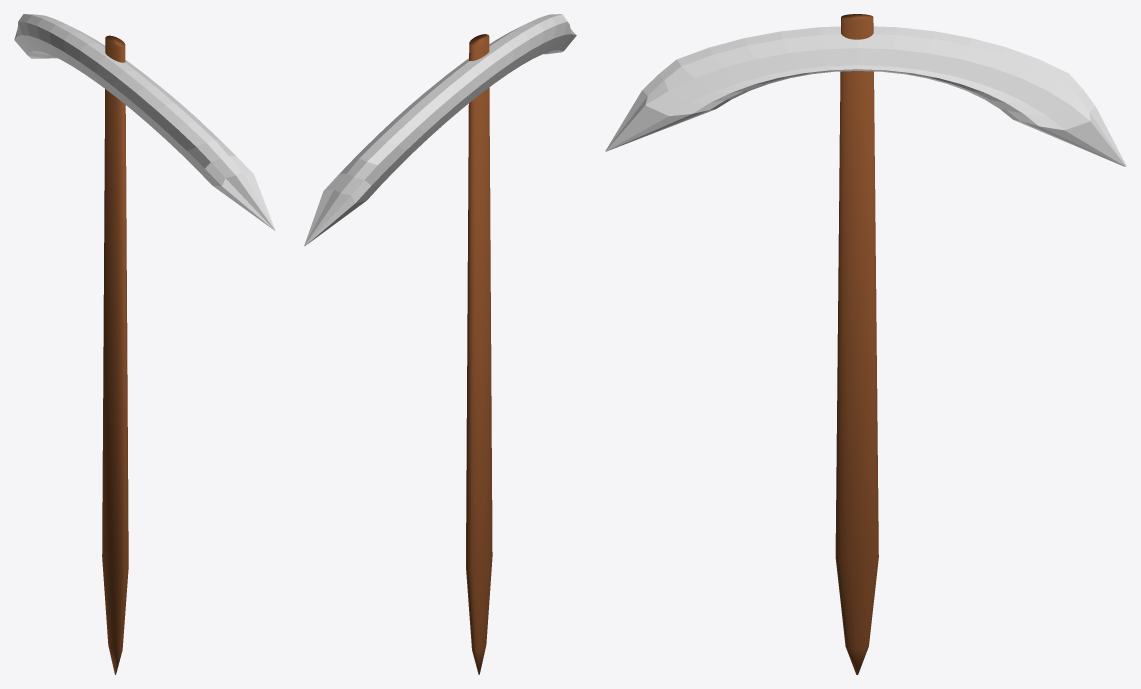
File: Pickaxe.fbx
The picture shows the model from 3 angles, left to right: view 1: azimuth 30°, elevation 25°; view 2: azimuth 150°, elevation 25°; view 3: azimuth 270°, elevation 25°; orthographic projection. The views are drawn at different scales.
Parts seen in each view (by area): view 1: Torus.032; view 2: Torus.032; view 3: Torus.032.
Part boxes in pixels (left/top/right/bottom): Torus.032: left=14, top=14, right=275, bottom=674; Torus.032: left=304, top=14, right=576, bottom=674; Torus.032: left=605, top=14, right=1126, bottom=674.
Size of the model in its own units: 16.44 by 144 by 104.
